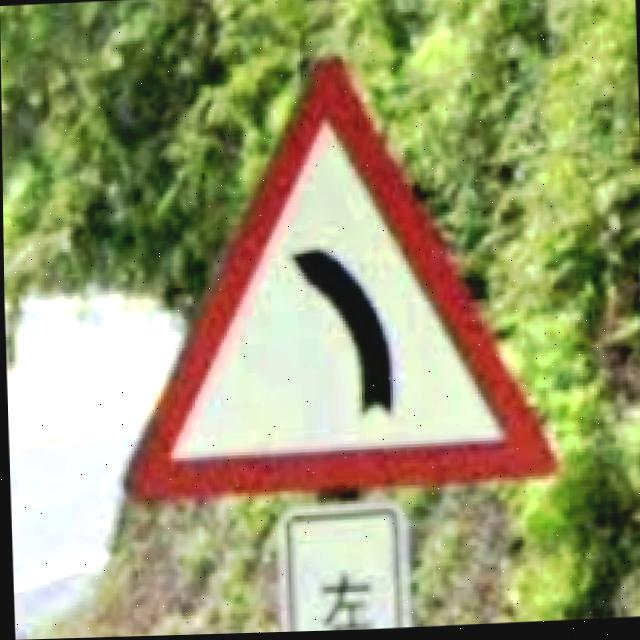leftbend: (122, 59, 555, 505)
